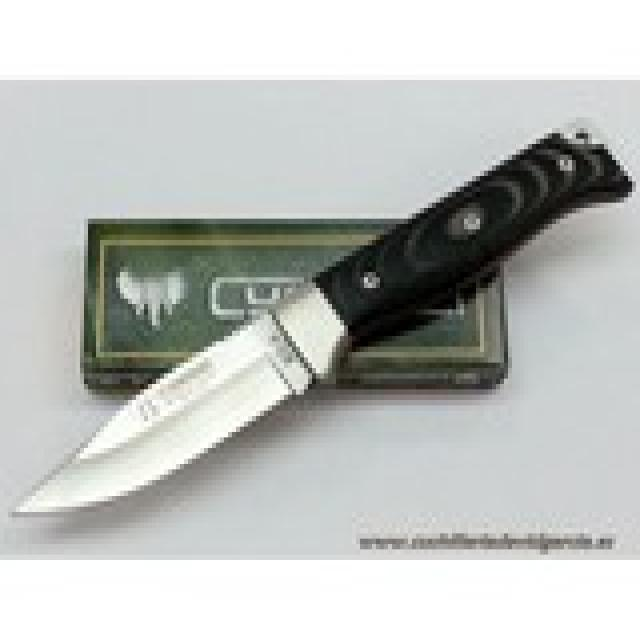Knife: (6, 116, 638, 526)
